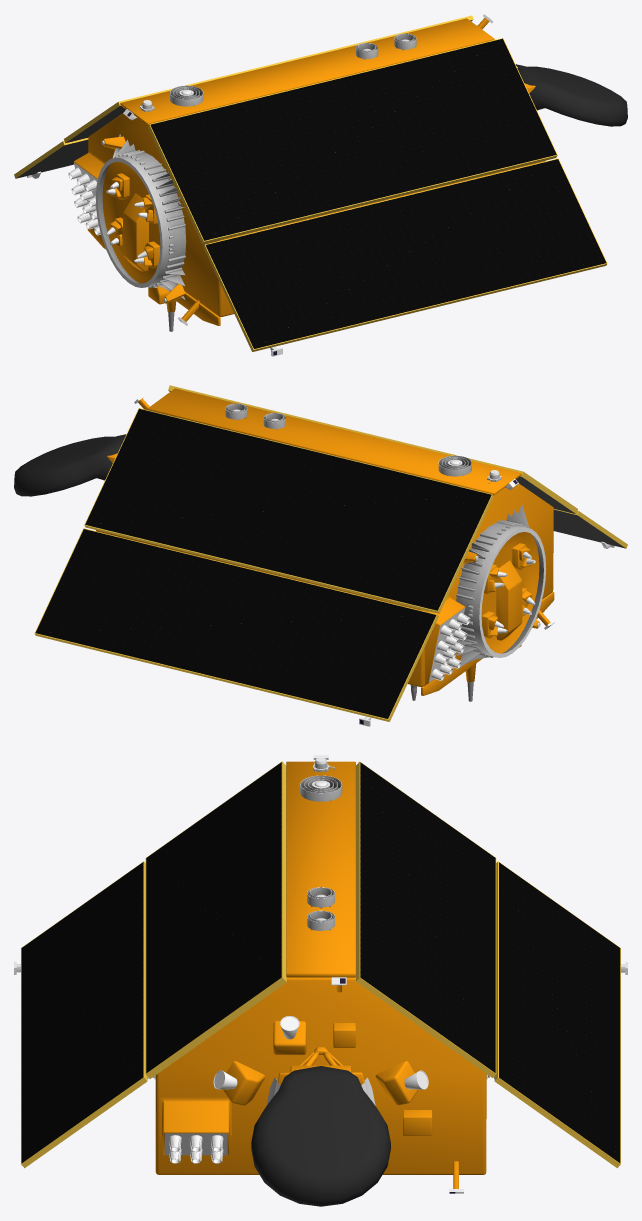
File: sentinel6.glb
3 renders of one model, top to bottom at view 1: azimuth 30°, elevation 25°; view 2: azimuth 150°, elevation 25°; view 3: azimuth 270°, elevation 25°, orthographic. The views are drawn at different scales.
Parts seen in each view (by area): view 1: array, BUS, GNSS_POD_RO_SPA, AMR; view 2: array, BUS, GNSS_POD_RO_SPA, AMR; view 3: array, BUS, AMR, GNSS_POD_RO_SPA.
Part boxes in pixels (x1,y1,x2,y2): array: (14, 15, 607, 351); BUS: (27, 14, 545, 356); GNSS_POD_RO_SPA: (95, 33, 416, 299); AMR: (515, 64, 627, 126); array: (34, 385, 627, 721); BUS: (96, 388, 614, 726); GNSS_POD_RO_SPA: (225, 403, 546, 669); AMR: (14, 434, 126, 496); array: (21, 761, 620, 1168); BUS: (14, 755, 627, 1193); AMR: (251, 1066, 390, 1206); GNSS_POD_RO_SPA: (300, 757, 342, 930).
Bounding box in the file's own units: 5.13 × 2.32 × 4.37.
Materials: 17 (4 with a texture image).
